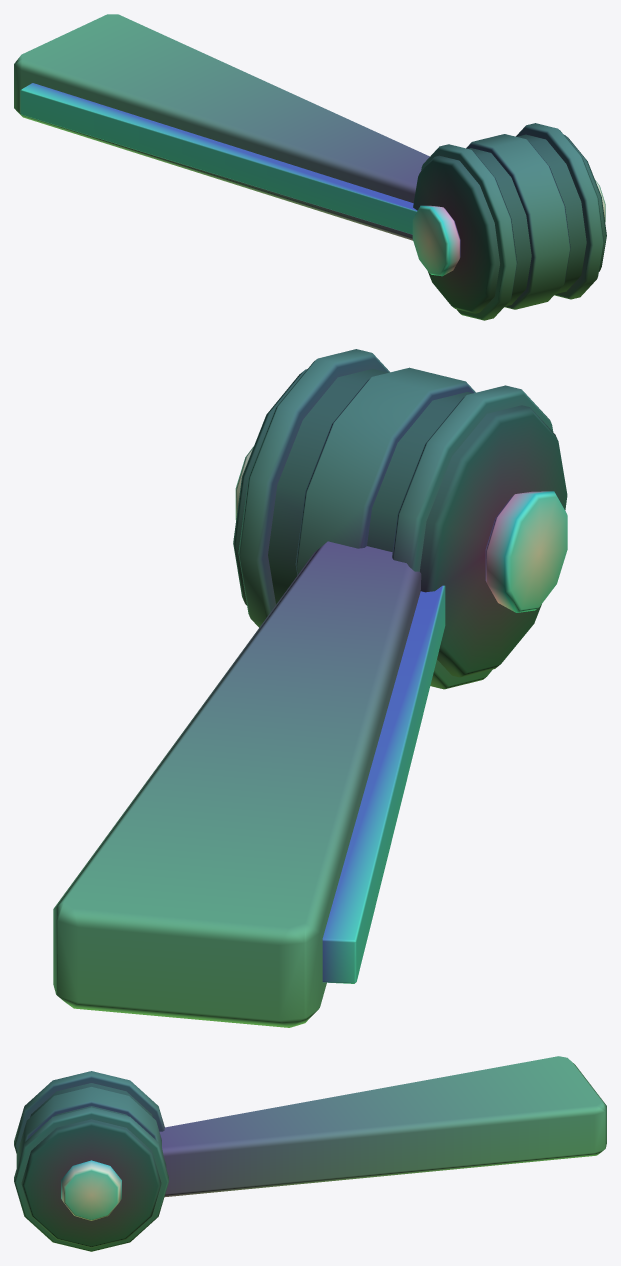
File: kit_boss_plasma_jaw_r.glb
3 renders of one model, top to bottom at view 1: azimuth 30°, elevation 25°; view 2: azimuth 150°, elevation 25°; view 3: azimuth 270°, elevation 25°, orthographic. The views are drawn at different scales.
Visible parts, largest first — view 1: Body__armor, Body__gunmetal, Body__emit_core, Body__dark, Body__chrome; view 2: Body__armor, Body__dark, Body__gunmetal, Body__emit_core, Body__chrome; view 3: Body__armor, Body__dark, Body__gunmetal, Body__chrome.
Boxes of the visible parts, x1,y1,x2,y2 form: Body__armor: [14, 14, 429, 240]; Body__gunmetal: [421, 123, 603, 320]; Body__emit_core: [20, 83, 417, 234]; Body__dark: [413, 134, 606, 313]; Body__chrome: [412, 180, 605, 276]; Body__armor: [53, 541, 421, 1027]; Body__dark: [233, 369, 567, 677]; Body__gunmetal: [238, 349, 553, 689]; Body__emit_core: [322, 585, 445, 983]; Body__chrome: [235, 446, 567, 612]; Body__armor: [159, 1056, 606, 1197]; Body__dark: [21, 1083, 161, 1247]; Body__gunmetal: [14, 1071, 168, 1251]; Body__chrome: [61, 1160, 121, 1220].
Bounding box in the file's own units: 0.5341 × 0.2664 × 1.02.
